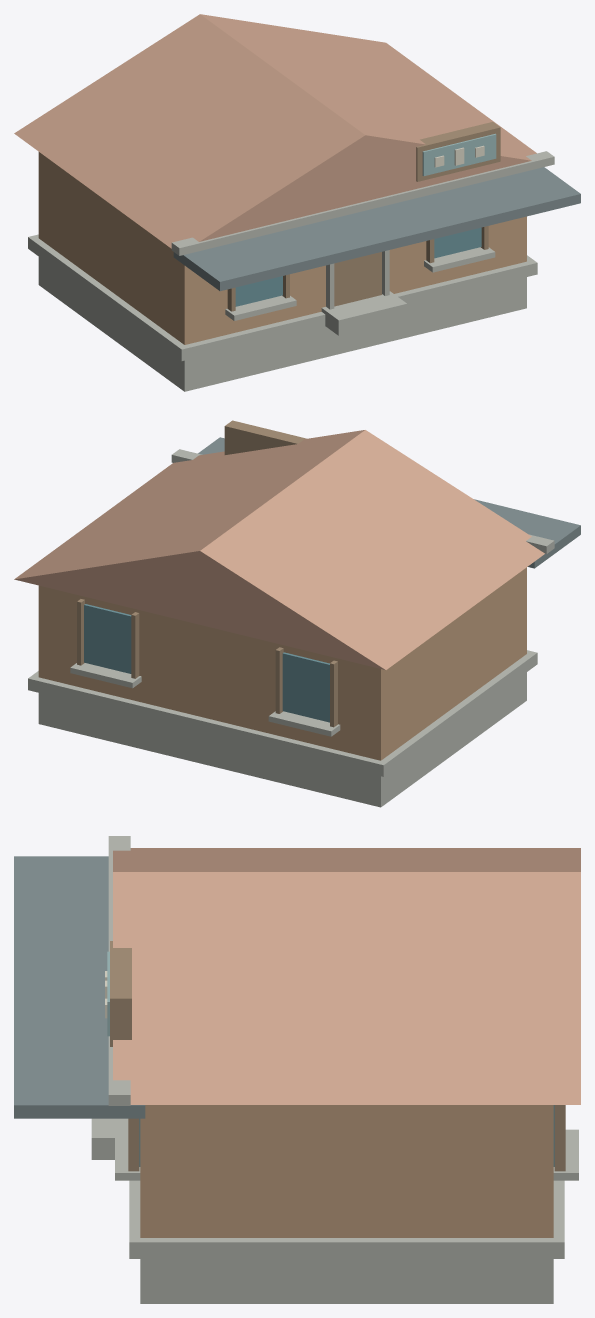
The model's file is shop-3.glb.
3 views of the same model, one above another, from view 1: azimuth 30°, elevation 25°; view 2: azimuth 150°, elevation 25°; view 3: azimuth 270°, elevation 25° (orthographic). The views are drawn at different scales.
Size of the model in its own units: 5.04 by 2.85 by 4.66.
